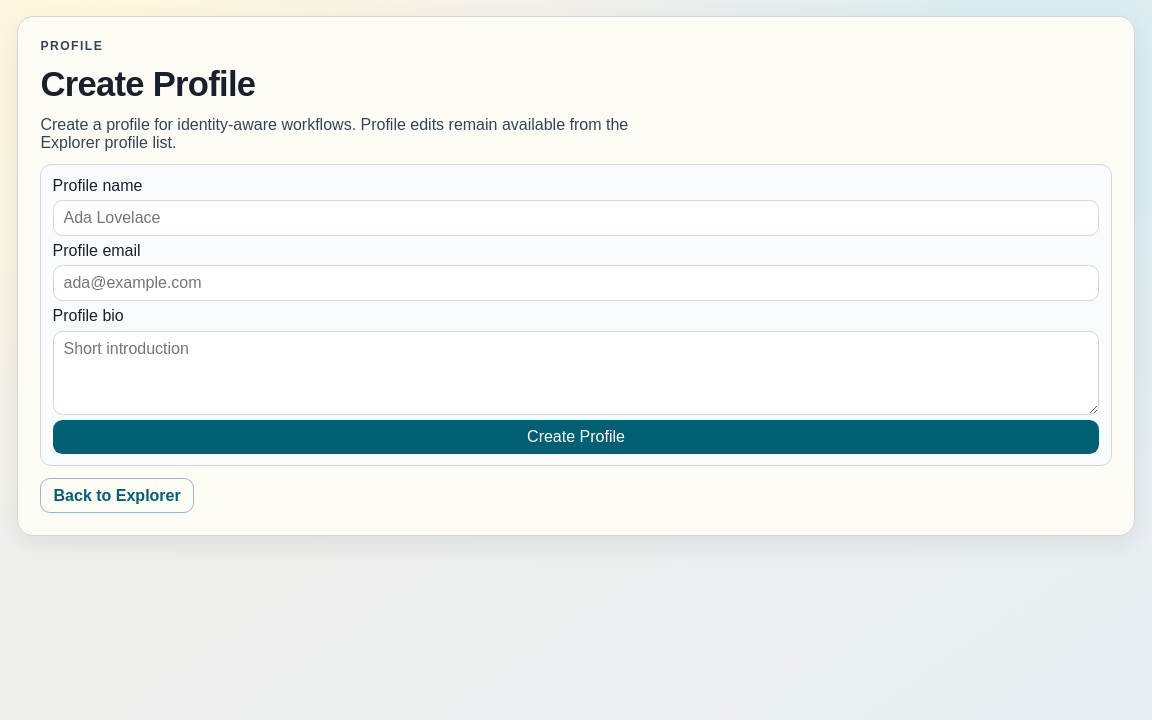
Scenario: ProfilePage › submits trimmed values and renders latest profile summary
Type " Ada Lovelace " into the field labelled "Profile name" at (576, 218), box [53,200,1099,236]
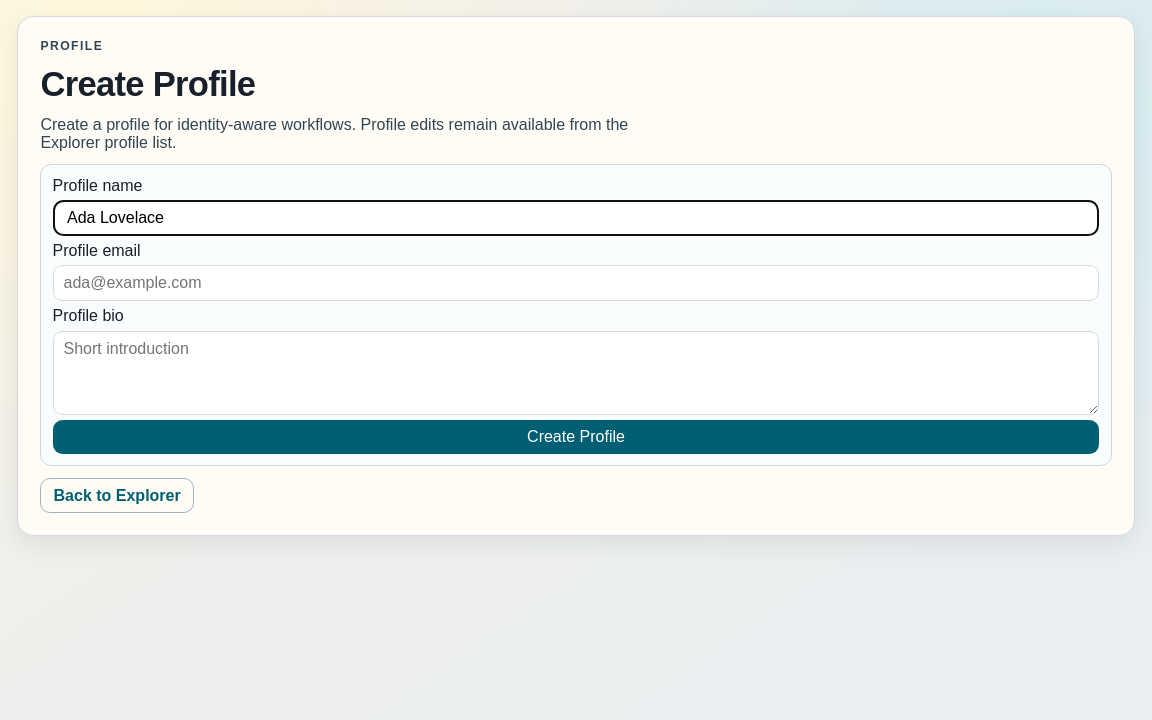
Type " ADA@EXAMPLE.COM " into the field labelled "Profile email" at (576, 283), box [53,265,1099,301]
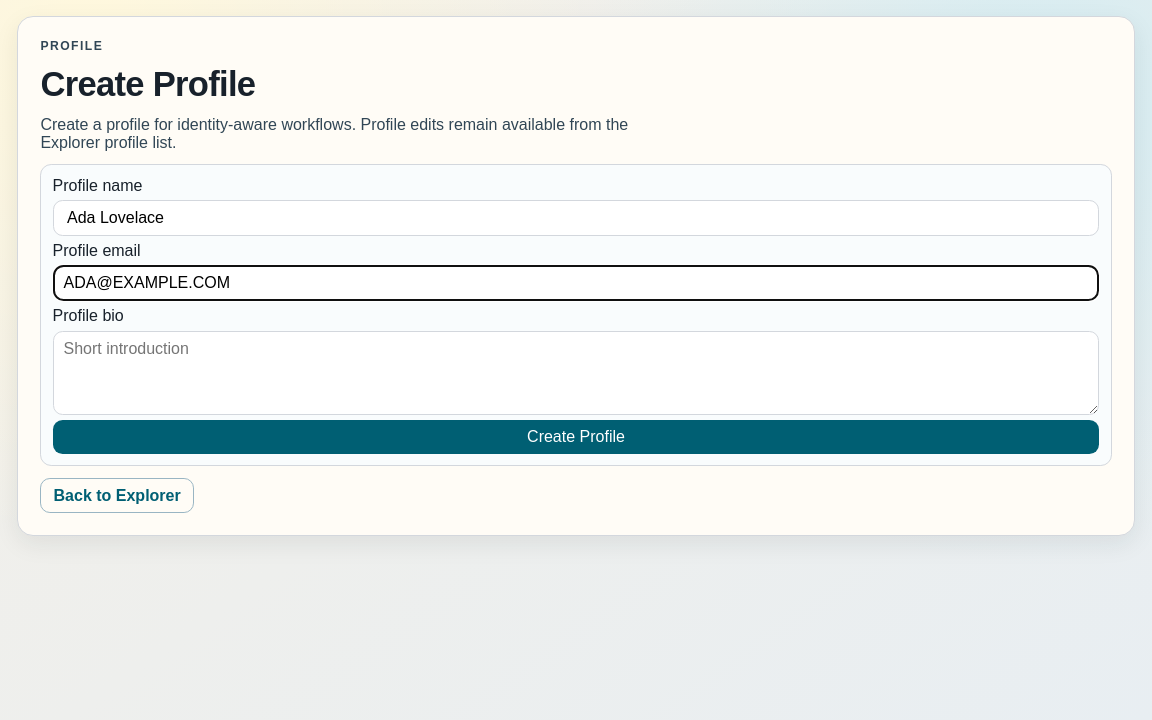
Type " Pioneer " into the text box labelled "Profile bio" at (576, 372), box [53,330,1099,414]
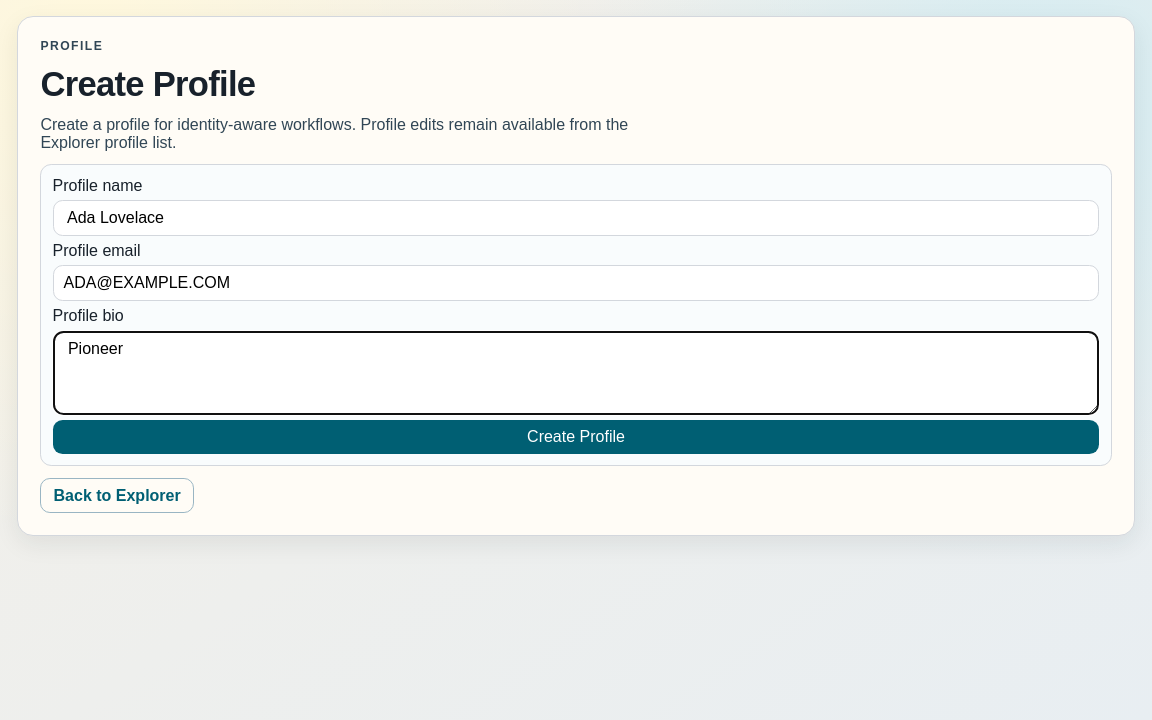
Click the button "Create Profile" at (576, 437), box [53,420,1099,454]
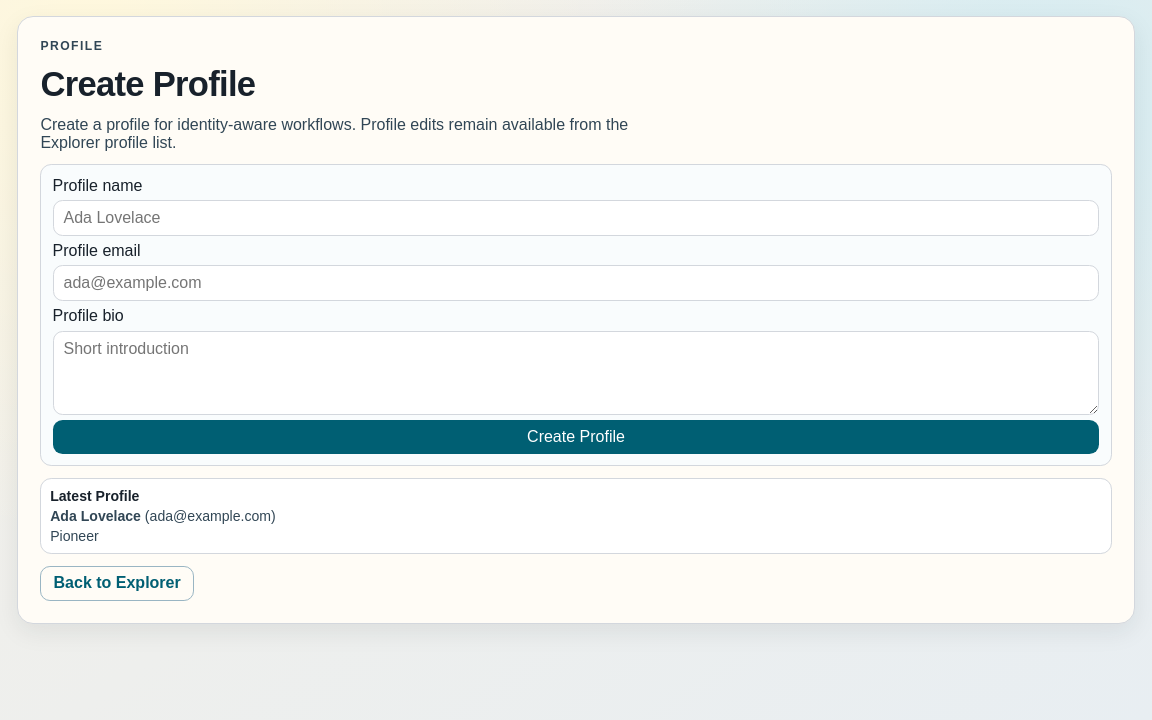
Check: the heading "Latest Profile" is shown, box [50,488,139,504]
Check: the text "Ada Lovelace" is shown, box [50,508,141,524]
Check: the text "Ada Lovelace (ada@example.com)" is shown, box [50,508,276,524]
